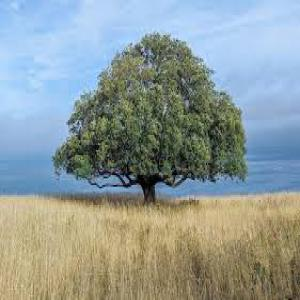Tree: (50, 28, 250, 200)
